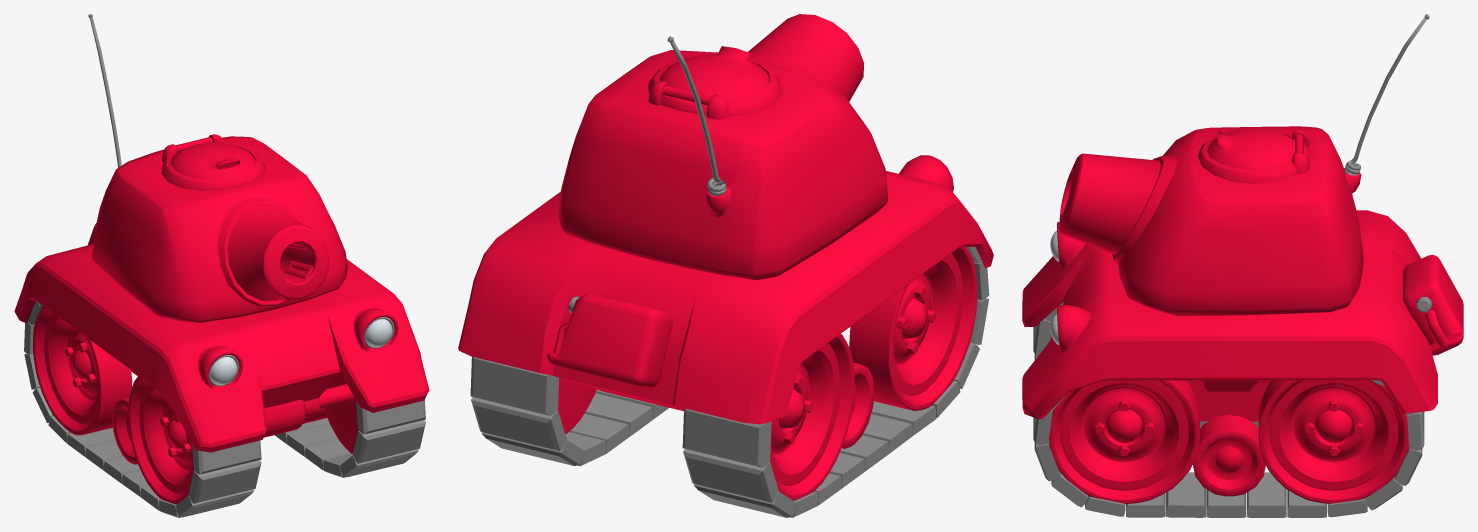
File: Tank.fbx
The picture shows the model from 3 angles, left to right: view 1: azimuth 30°, elevation 25°; view 2: azimuth 150°, elevation 25°; view 3: azimuth 270°, elevation 25°; orthographic projection. The views are drawn at different scales.
Parts seen in each view (by area): view 1: TankChassis, TankTurret, TankTracksRight, TankTracksLeft; view 2: TankChassis, TankTurret, TankTracksRight, TankTracksLeft; view 3: TankChassis, TankTurret, TankTracksLeft, TankTracksRight.
Part boxes in pixels (x1,y1,x2,y2): TankChassis: (14, 223, 429, 464); TankTurret: (88, 14, 347, 322); TankTracksRight: (24, 301, 261, 517); TankTracksLeft: (274, 372, 425, 477); TankChassis: (458, 155, 993, 448); TankTurret: (558, 14, 888, 280); TankTracksRight: (682, 246, 989, 517); TankTracksLeft: (470, 356, 668, 466); TankChassis: (1022, 210, 1463, 496); TankTurret: (1059, 14, 1429, 315); TankTracksLeft: (1033, 380, 1424, 517); TankTracksRight: (1033, 302, 1258, 428).
Size of the model in its own units: 17.1 by 24.99 by 23.77.
